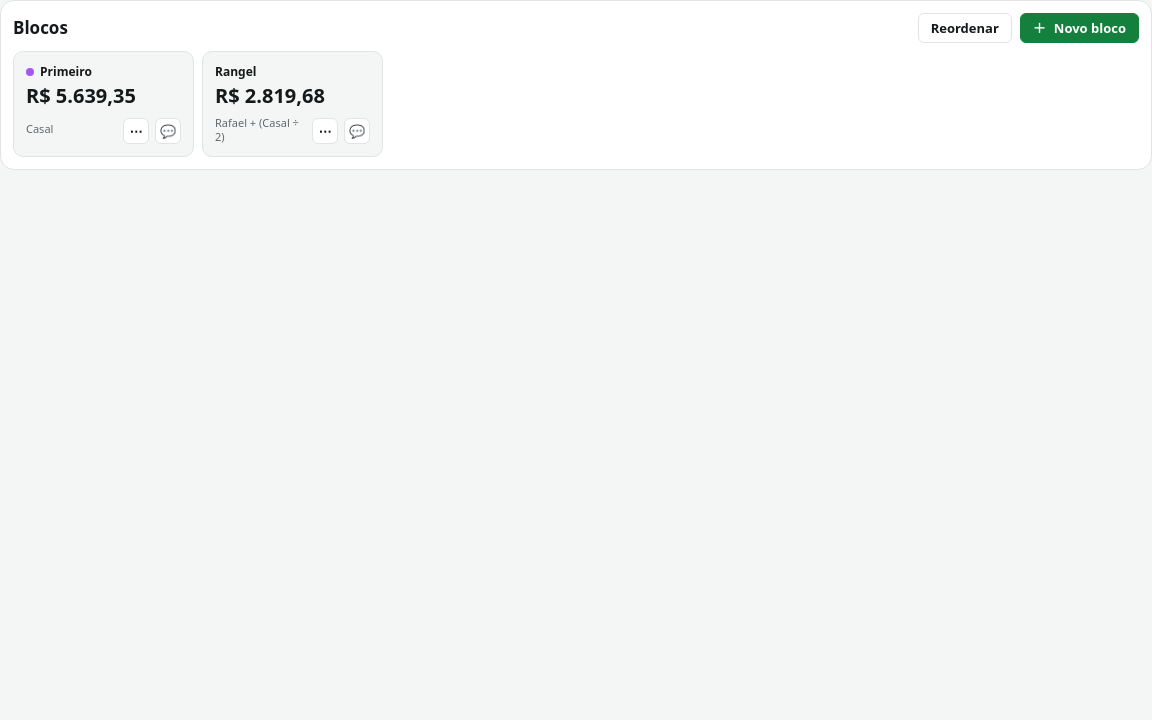
Test: menu ⋯ › Editar fórmula abre o Montador com o Bloco; salvar manda o p_id e mantém a ordem
Click the button "⋯" below "Rangel".
click(325, 131)  # box [312,118,338,144]
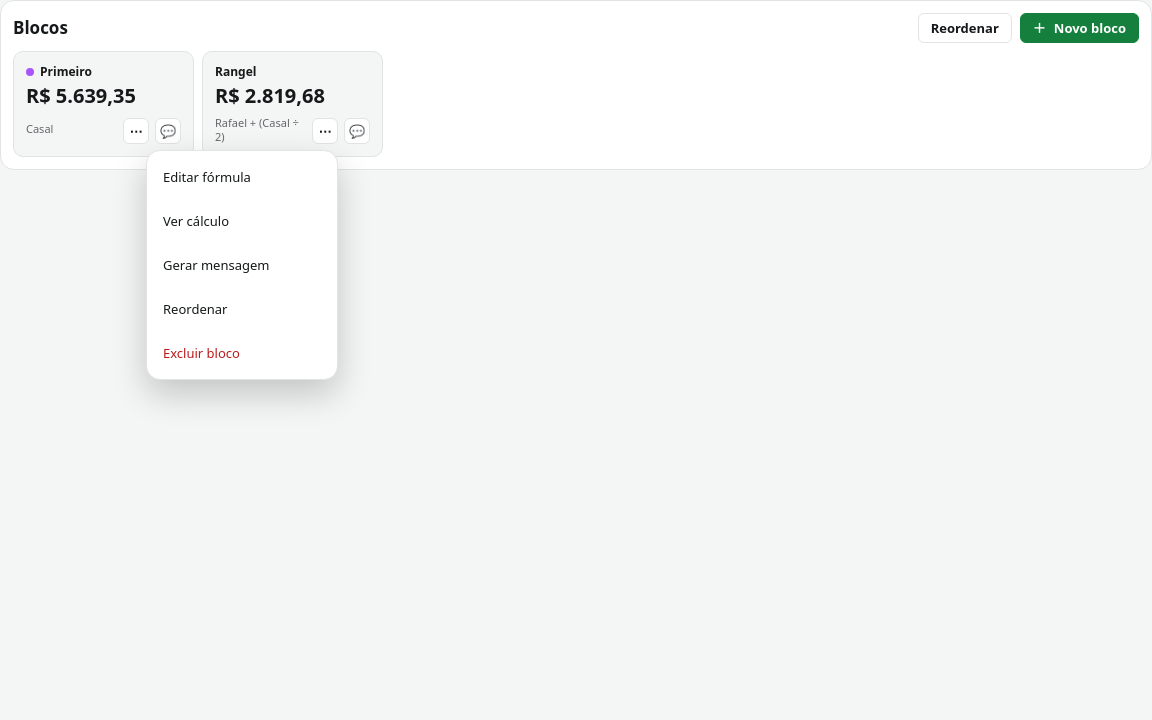
Click the menu item "Editar fórmula".
click(207, 177)  # box [163,168,251,186]
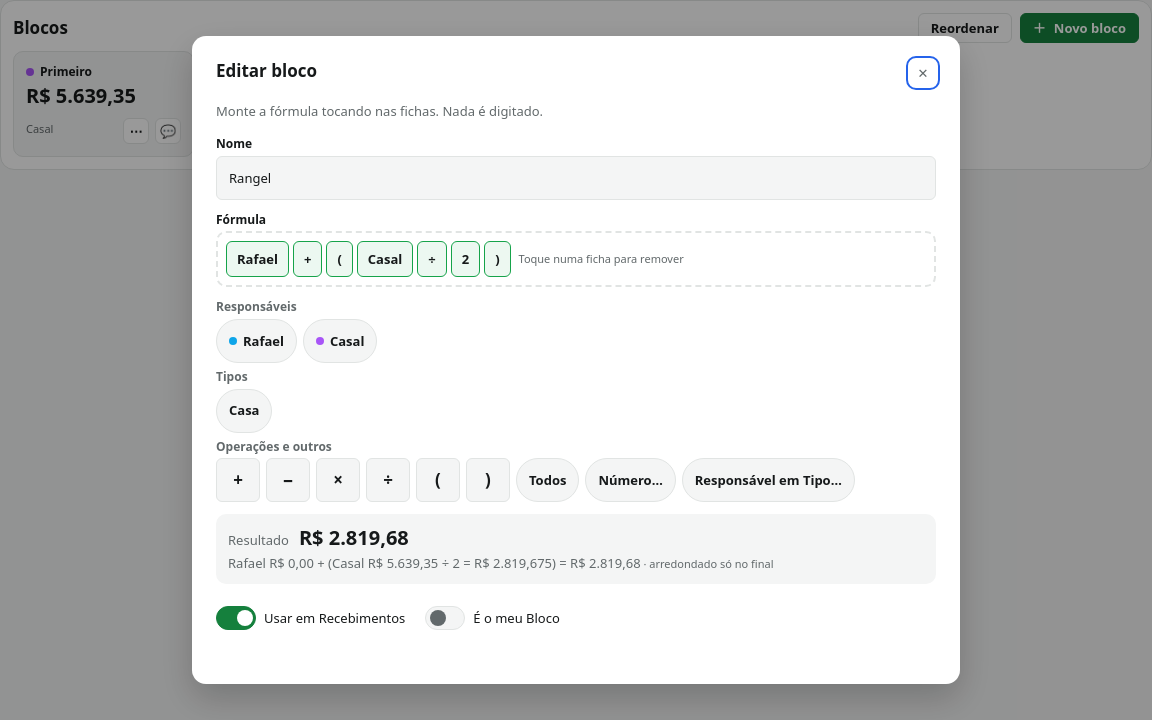
Expected: the field labelled "Nome" holds "Rangel"
Expected: the button with aria-label "Remover Rafael" is shown, [226,241,289,277]
Replace the text in the field labelled "Nome" with "Rangel 2" at (576, 178), box [216,156,936,200]
(page scrolled)
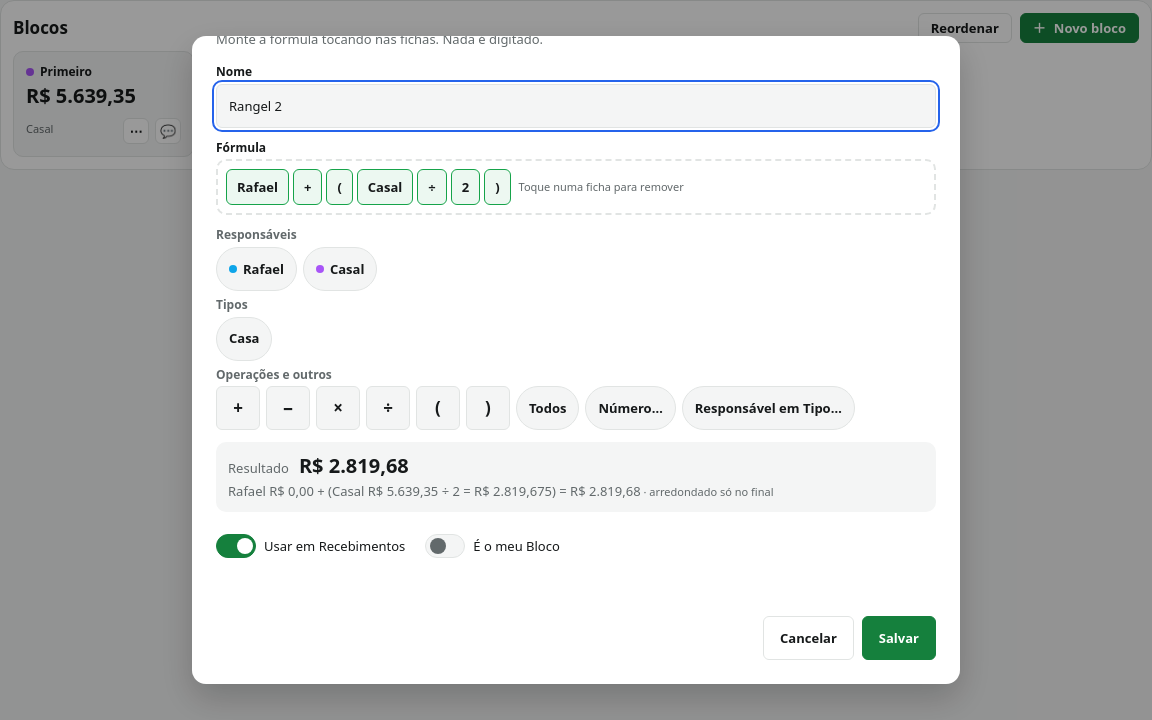
Click the button "Salvar".
click(899, 638)  # box [862,616,936,660]
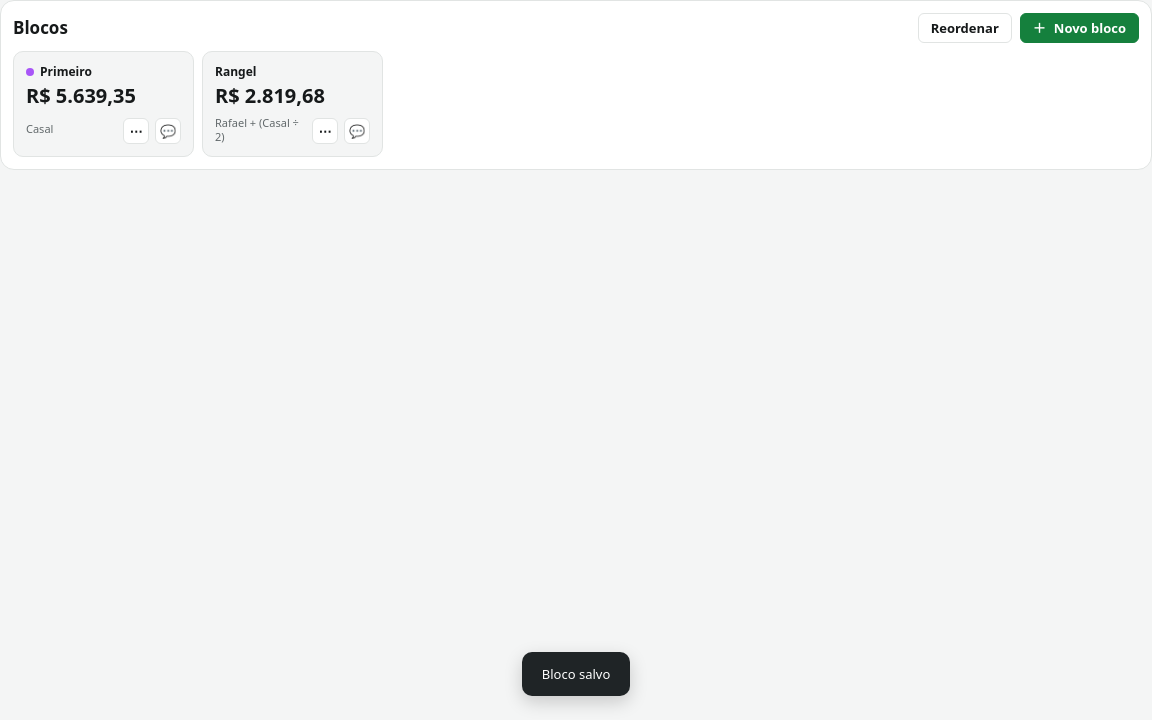
Expected: the heading "Editar bloco" is not shown
Expected: the text "Bloco salvo" is shown, [542,665,610,683]
